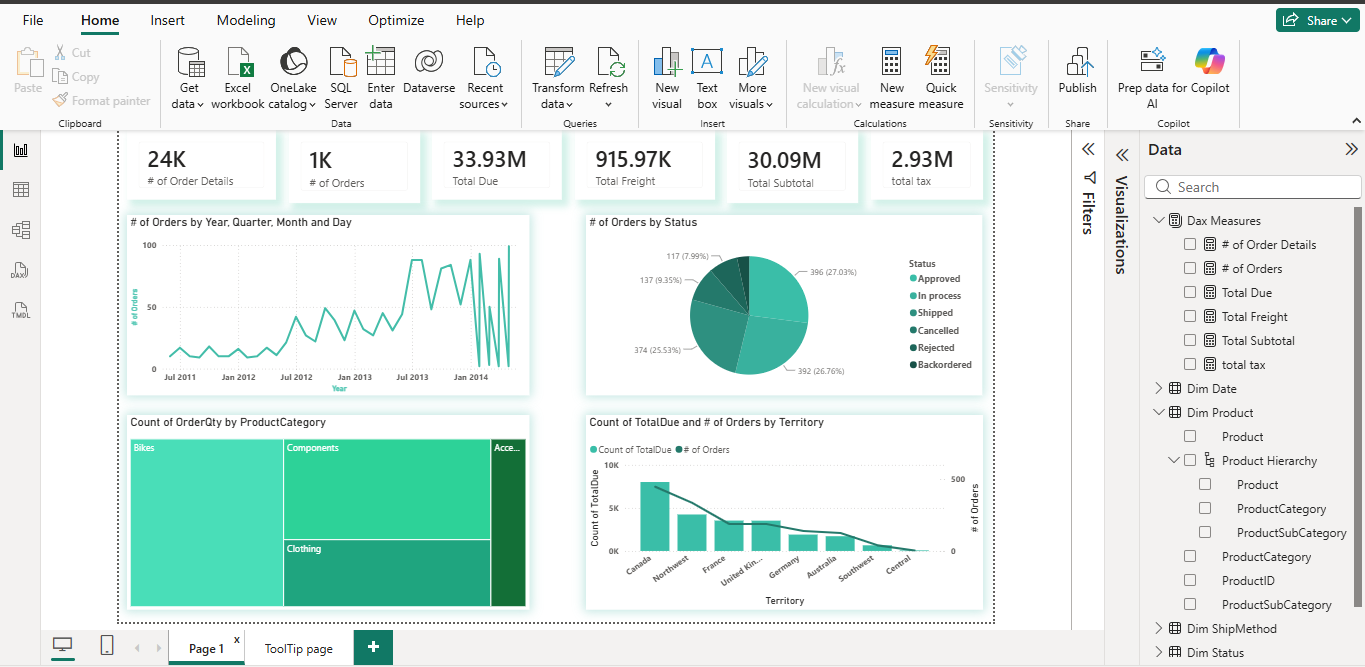

What the dashboard file says about the page in this screenshot:
{"tool":"powerbi","page":{"name":"Page 1","canvas":[1280,720],"ordinal":0},"visuals":[{"type":"cardVisual","fields":{"Data":["Dax Measures.# of Order Details"]},"box":[11.7,0,218,102.4],"z":0},{"type":"cardVisual","fields":{"Data":["Dax Measures.# of Orders"]},"box":[248.2,0,191.7,106.8],"z":1000},{"type":"cardVisual","fields":{"Data":["Dax Measures.Total Due"]},"box":[458.3,0,190.2,102.4],"z":2000},{"type":"cardVisual","fields":{"Data":["Dax Measures.Total Freight"]},"box":[667,0,204.9,102.4],"z":3000},{"type":"cardVisual","fields":{"Data":["Dax Measures.Total Subtotal"]},"box":[890.3,0,191.7,106.8],"z":4000},{"type":"cardVisual","fields":{"Data":["Dax Measures.total tax"]},"box":[1100.5,0,163.9,102.4],"z":5000},{"type":"lineChart","fields":{"Y":["Dax Measures.# of Orders"],"Category":["Dim Date.OrderDate.Variation.Date Hierarchy.Year","Dim Date.OrderDate.Variation.Date Hierarchy.Quarter","Dim Date.OrderDate.Variation.Date Hierarchy.Month","Dim Date.OrderDate.Variation.Date Hierarchy.Day"]},"box":[12.2,125.1,588.9,263.9],"z":6000},{"type":"pieChart","fields":{"Y":["Dax Measures.# of Orders"],"Category":["Dim Status.Status"]},"box":[683.5,125.1,579.7,263.9],"z":7000},{"type":"treemap","fields":{"Group":["Dim Product.Product Hierarchy.Product","Dim Product.Product Hierarchy.ProductCategory","Dim Product.Product Hierarchy.ProductSubCategory"],"Values":["CountNonNull(Fact Sales.OrderQty)"]},"box":[12.2,416.5,588.9,285.3],"z":8000},{"type":"lineStackedColumnComboChart","fields":{"Category":["Dim Territory.Territory"],"Y":["CountNonNull(Fact Sales.TotalDue)"],"Y2":["Dax Measures.# of Orders"]},"box":[683.5,416.5,581.3,285.3],"z":9000}]}

Visuals, with their boxes on the page's 1280x720 design canvas (x1, y1, x2, y2). These are canvas units, not pixel positions in the 1365x667 screenshot, which may show the page scaled, cropped or inside an application window:
cardVisual - Dax Measures.# of Order Details: crop(12, 0, 230, 102)
cardVisual - Dax Measures.# of Orders: crop(248, 0, 440, 107)
cardVisual - Dax Measures.Total Due: crop(458, 0, 648, 102)
cardVisual - Dax Measures.Total Freight: crop(667, 0, 872, 102)
cardVisual - Dax Measures.Total Subtotal: crop(890, 0, 1082, 107)
cardVisual - Dax Measures.total tax: crop(1100, 0, 1264, 102)
lineChart - Dax Measures.# of Orders x Dim Date.OrderDate.Variation.Date Hierarchy.Year: crop(12, 125, 601, 389)
pieChart - Dax Measures.# of Orders x Dim Status.Status: crop(684, 125, 1263, 389)
treemap - Dim Product.Product Hierarchy.Product x Dim Product.Product Hierarchy.ProductCategory: crop(12, 416, 601, 702)
lineStackedColumnComboChart - Dim Territory.Territory x CountNonNull(Fact Sales.TotalDue): crop(684, 416, 1265, 702)
